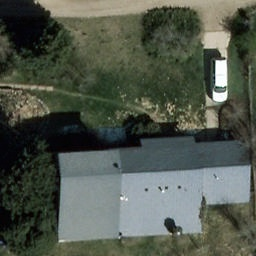car: (213, 56, 233, 103)
